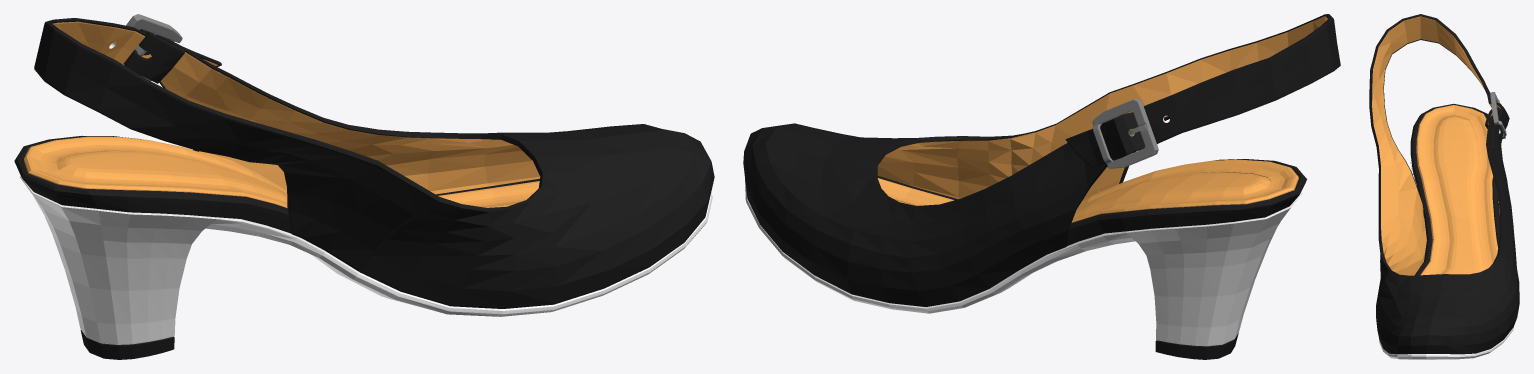
The model's file is sandal.fbx.
3 renders of one model, left to right at view 1: azimuth 30°, elevation 25°; view 2: azimuth 150°, elevation 25°; view 3: azimuth 270°, elevation 25°, orthographic. The views are drawn at different scales.
Parts seen in each view (by area): view 1: Outer_part_2, Outer_part, Upper_part, Inner_part_Whole, Upper_part_2, Lower_part_2, Base, Lower_part, Body_2; view 2: Outer_part_2, Inner_part_Whole, Upper_part, Outer_part, Upper_part_2, Lower_part_2, Base, Body_2, Lower_part; view 3: Outer_part_2, Upper_part_2, Inner_part_Whole, Outer_part, Lower_part_2, Base, Body_2.
Boxes of the visible parts, x1,y1,x2,y2 form: Outer_part_2: (123,31,714,308); Outer_part: (34,18,439,271); Upper_part: (20,176,216,344); Inner_part_Whole: (52,21,540,194); Upper_part_2: (24,136,539,208); Lower_part_2: (14,136,539,271); Base: (206,193,712,316); Lower_part: (80,330,174,359); Body_2: (123,14,182,81); Outer_part_2: (743,120,1135,306); Inner_part_Whole: (877,16,1327,200); Upper_part: (1126,192,1302,346); Outer_part: (1056,14,1340,183); Upper_part_2: (877,159,1298,222); Lower_part_2: (877,159,1306,245); Base: (745,179,1134,313); Body_2: (1092,98,1158,168); Lower_part: (1155,333,1238,359); Outer_part_2: (1376,106,1519,354); Upper_part_2: (1416,105,1498,275); Inner_part_Whole: (1372,16,1500,275); Outer_part: (1369,14,1509,226); Lower_part_2: (1410,104,1499,275); Base: (1379,177,1513,359); Body_2: (1490,92,1506,139).
Bounding box in the file's own units: 20.55 × 10.83 × 7.43.
